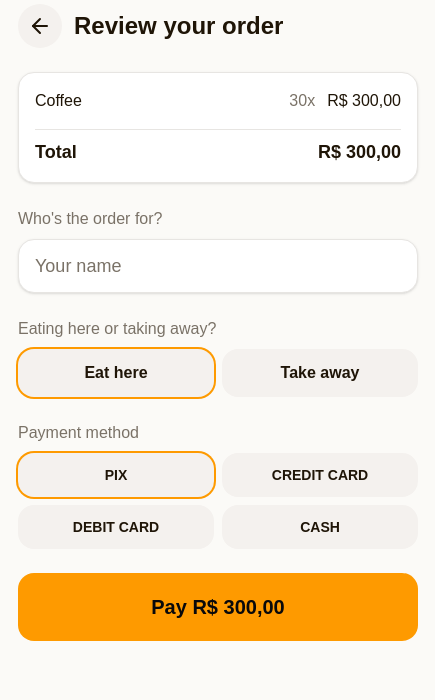
CheckoutView stock guard › blocks payment when a line exceeds stock and explains why
The image size is (435, 700).
Type "Ana Paula" into the field with placeholder "Your name" at {"x": 218, "y": 266}, box x1=18 y1=239 x2=418 y2=293
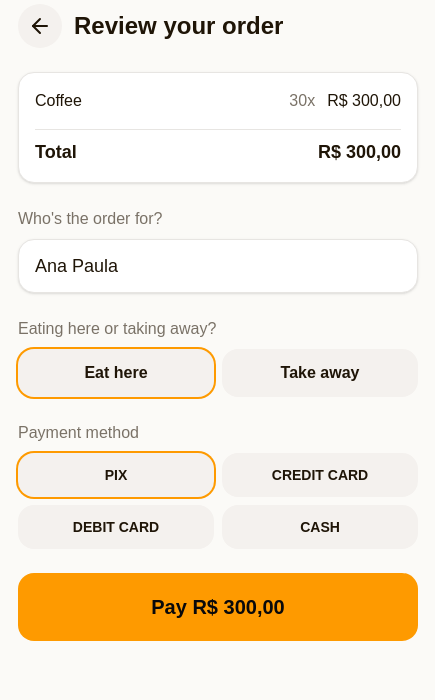
Click the button "Pay R$ 300,00" at {"x": 218, "y": 607}, box x1=18 y1=573 x2=418 y2=641
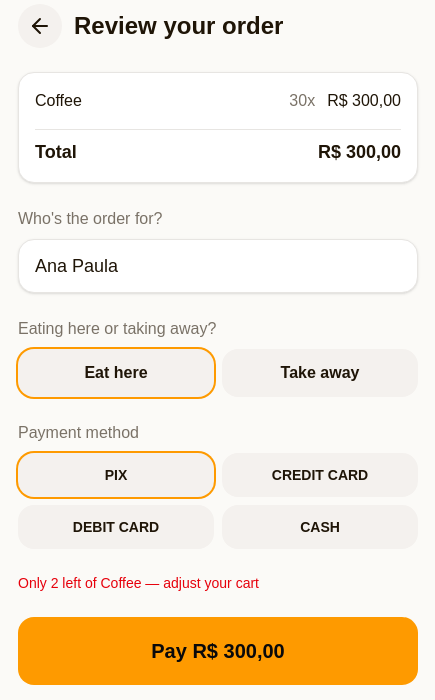
Check: the text "Only 2 left of Coffee" is shown, box x1=18 y1=575 x2=259 y2=591
